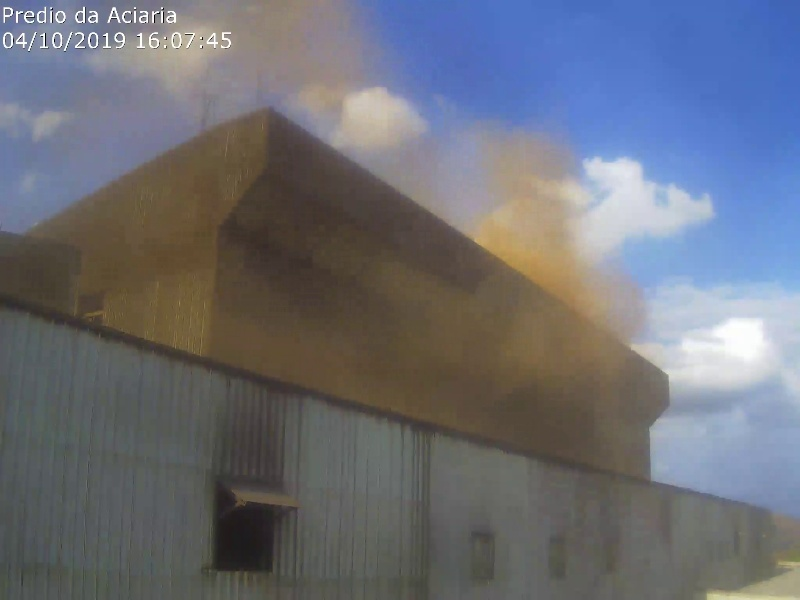pessimo: (427, 143, 647, 391), (191, 3, 411, 251), (98, 147, 322, 351)
